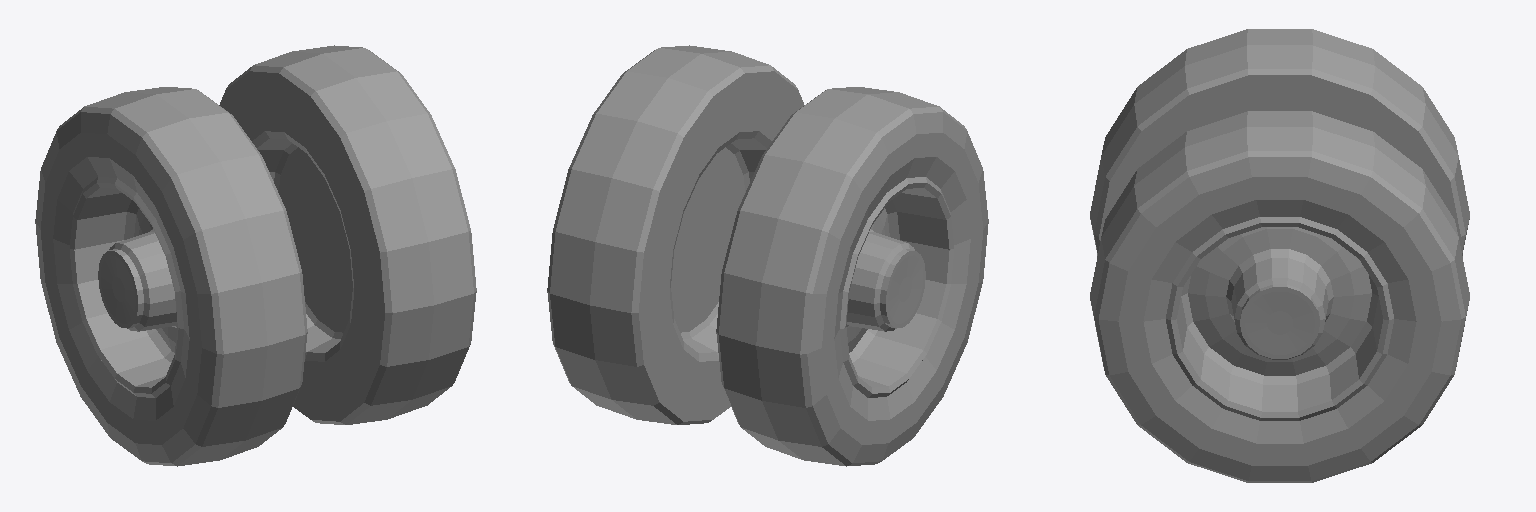
Rendered from wheel_front.obj.
3 views of the same model, side by side, from view 1: azimuth 30°, elevation 25°; view 2: azimuth 150°, elevation 25°; view 3: azimuth 270°, elevation 25° (orthographic).
Parts seen in each view (by area): view 1: Object01.000; view 2: Object01.000; view 3: Object01.000.
Part boxes in pixels (x1,y1,x2,y2): Object01.000: (35, 45, 476, 466); Object01.000: (547, 45, 988, 466); Object01.000: (1090, 29, 1469, 482).
Bounding box in the file's own units: 0.3598 × 0.4238 × 0.4304.